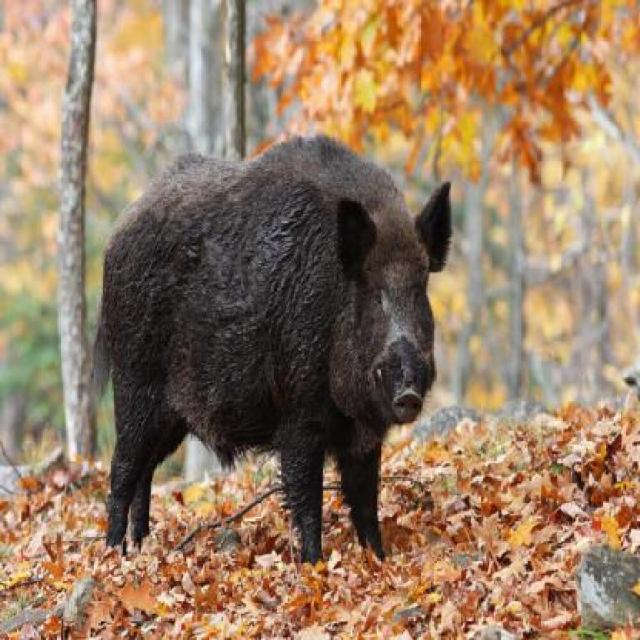Wild Boar: (80, 124, 458, 593)
